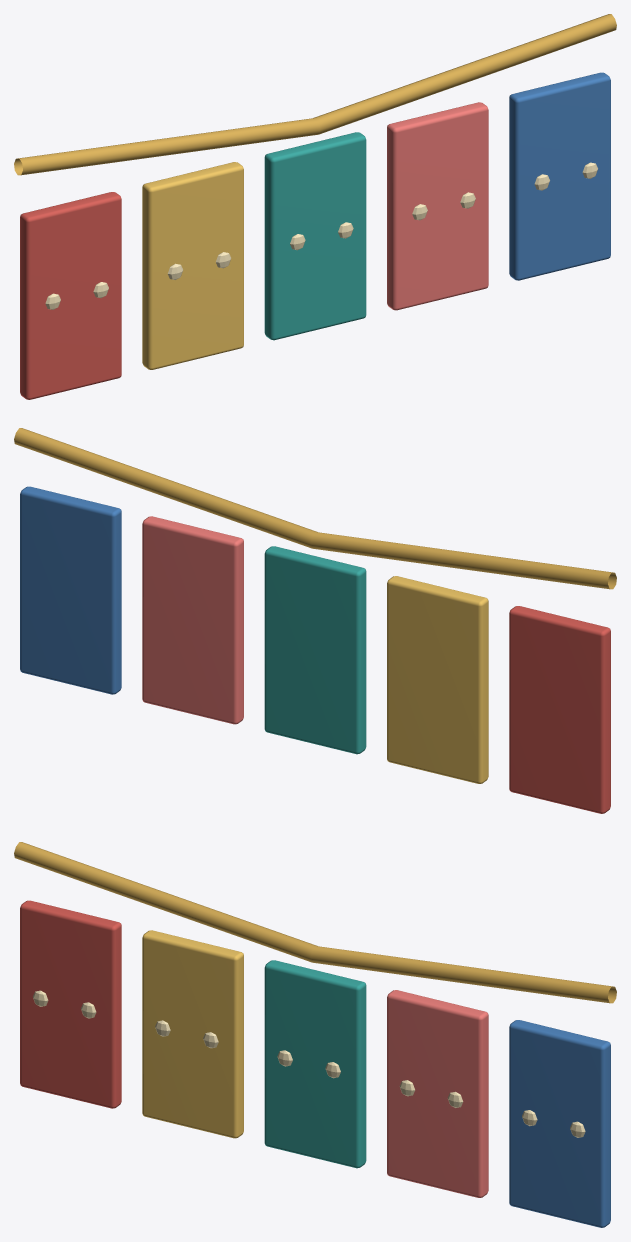
The model's file is mexico-paper-garland.glb.
3 views of the same model, one above another, from view 1: azimuth 30°, elevation 25°; view 2: azimuth 150°, elevation 25°; view 3: azimuth 330°, elevation 25° (orthographic).
Visible parts, largest first — view 1: きりがみ.002, きりがみ.003, きりがみ.004, きりがみ.001, きりがみ, いわいの ひも; view 2: きりがみ.002, きりがみ.003, きりがみ.004, きりがみ, きりがみ.001, いわいの ひも; view 3: きりがみ.002, きりがみ.001, きりがみ, きりがみ.003, きりがみ.004, いわいの ひも.
Part boxes in pixels (x1,y1,x2,y2): きりがみ.002: (264,132,366,340); きりがみ.003: (387,102,488,310); きりがみ.004: (509,72,610,280); きりがみ.001: (142,162,243,369); きりがみ: (20,192,121,399); いわいの ひも: (14,14,616,175); きりがみ.002: (264,546,366,754); きりがみ.003: (142,516,243,724); きりがみ.004: (20,486,121,694); きりがみ: (509,606,610,813); きりがみ.001: (387,576,488,783); いわいの ひも: (14,428,616,589); きりがみ.002: (264,960,366,1168); きりがみ.001: (142,930,243,1138); きりがみ: (20,900,121,1108); きりがみ.003: (387,990,488,1197); きりがみ.004: (509,1020,610,1227); いわいの ひも: (14,842,616,1003).
Size of the model in its own units: 1.36 by 0.5279 by 0.051.
